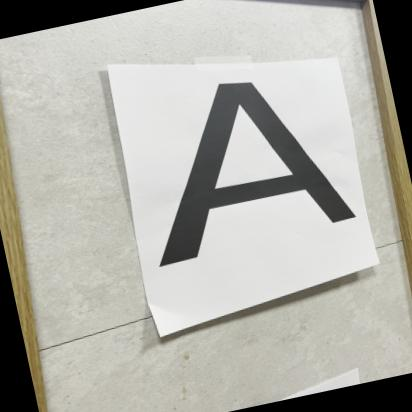seat: (118, 51, 372, 293)
